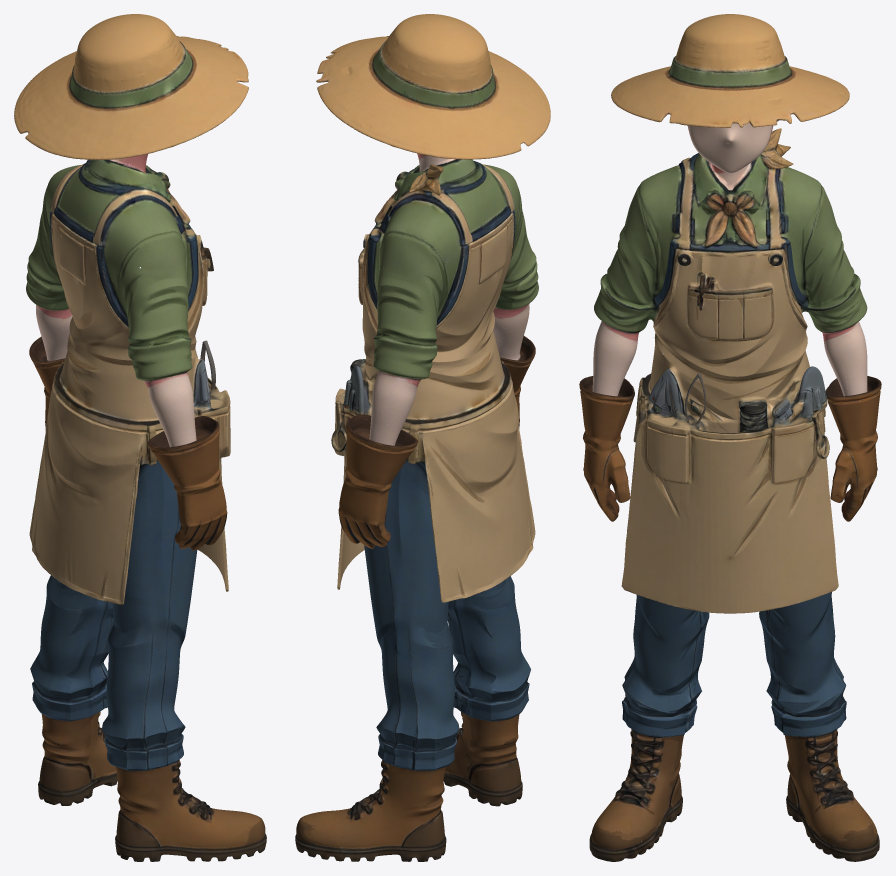
The model's file is farmer+character+3d+model (1).glb.
3 views of the same model, side by side, from view 1: azimuth 30°, elevation 25°; view 2: azimuth 150°, elevation 25°; view 3: azimuth 270°, elevation 25° (orthographic).
Parts seen in each view (by area): view 1: tripo_node_e672f83f-0a32-444e-8314-f95da377c448; view 2: tripo_node_e672f83f-0a32-444e-8314-f95da377c448; view 3: tripo_node_e672f83f-0a32-444e-8314-f95da377c448.
Boxes of the visible parts, x1,y1,x2,y2 form: tripo_node_e672f83f-0a32-444e-8314-f95da377c448: [14, 14, 266, 861]; tripo_node_e672f83f-0a32-444e-8314-f95da377c448: [295, 14, 550, 861]; tripo_node_e672f83f-0a32-444e-8314-f95da377c448: [579, 14, 881, 861].
Size of the model in its own units: 0.2691 by 1 by 0.3399.
Materials: 1 (1 with a texture image).
